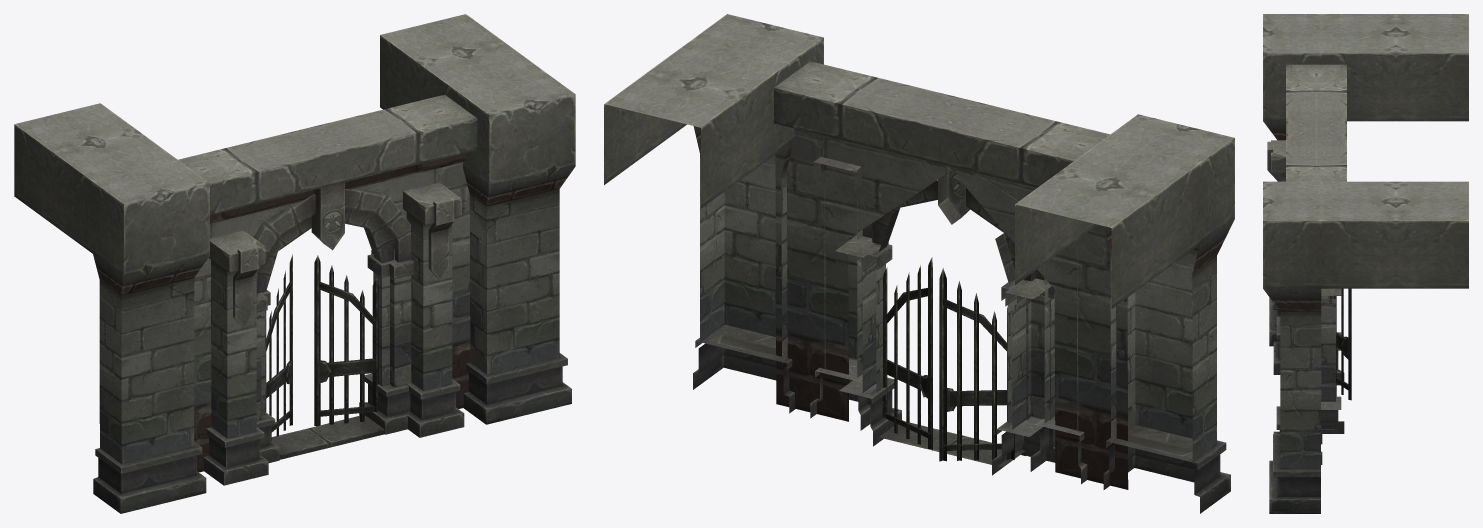
The model's file is building_city_chengmen02.FBX.
3 renders of one model, left to right at view 1: azimuth 30°, elevation 25°; view 2: azimuth 150°, elevation 25°; view 3: azimuth 270°, elevation 25°, orthographic. The views are drawn at different scales.
Parts seen in each view (by area): view 1: building_city_chengmen02; view 2: building_city_chengmen02; view 3: building_city_chengmen02.
Boxes of the visible parts, x1,y1,x2,y2 form: building_city_chengmen02: [14, 14, 575, 513]; building_city_chengmen02: [604, 14, 1234, 513]; building_city_chengmen02: [1263, 14, 1468, 513].
Bounding box in the file's own units: 20.38 × 8.56 × 13.46.
